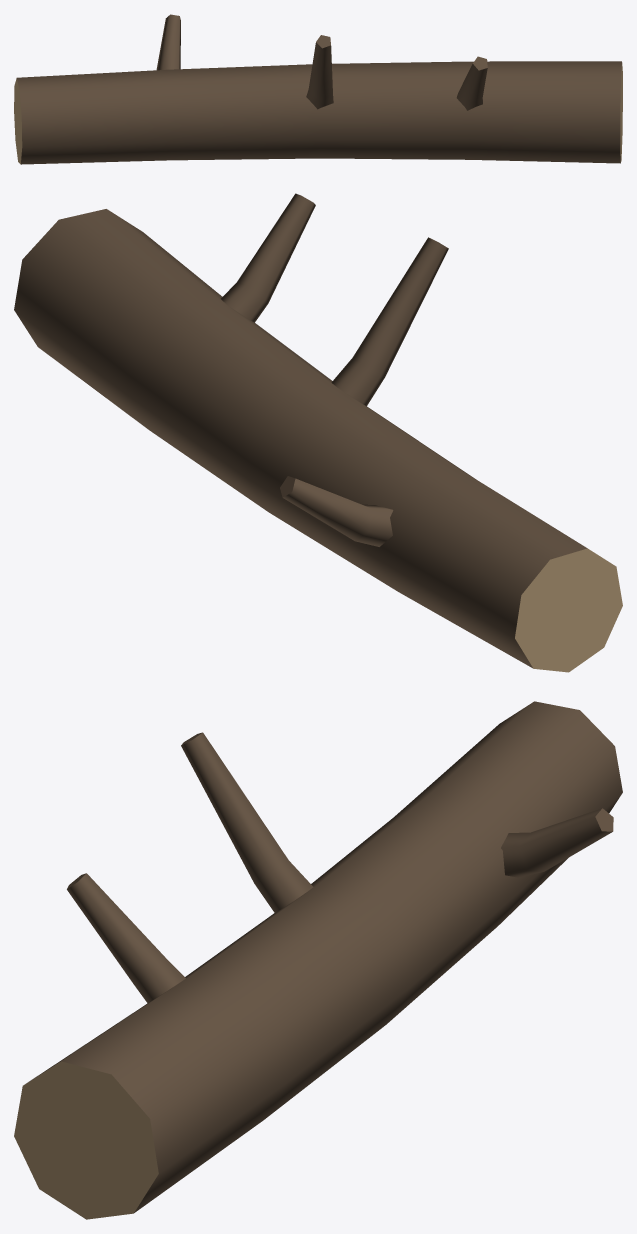
The model's file is log_1.glb.
The picture shows the model from 3 angles, top to bottom: view 1: azimuth 30°, elevation 25°; view 2: azimuth 150°, elevation 25°; view 3: azimuth 270°, elevation 25°; orthographic projection. The views are drawn at different scales.
Visible parts, largest first — view 1: log_1; view 2: log_1; view 3: log_1.
Boxes of the visible parts, x1,y1,x2,y2 form: log_1: [14, 14, 622, 164]; log_1: [14, 193, 622, 672]; log_1: [14, 701, 622, 1219].
Bounding box in the file's own units: 3.11 × 0.9757 × 1.98.
